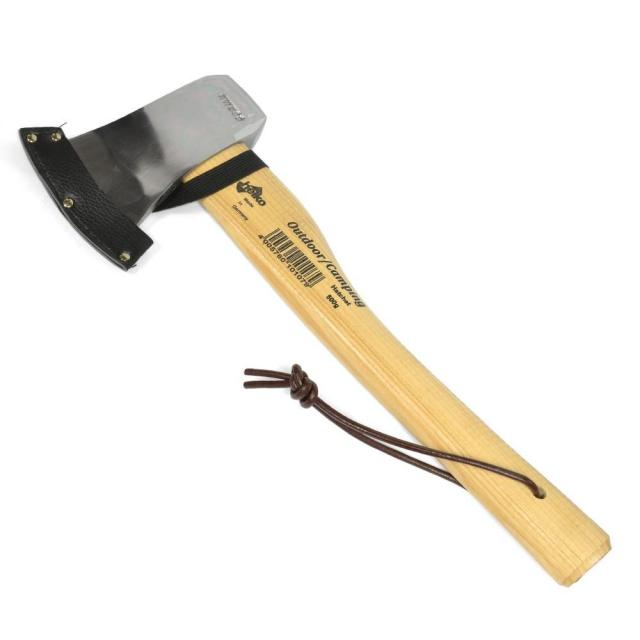Kapak: (24, 66, 610, 580)
